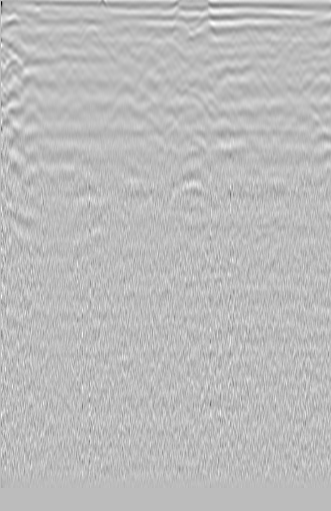상수: (294, 65, 330, 101)
오수: (0, 50, 33, 83)
우수: (132, 50, 172, 92)
